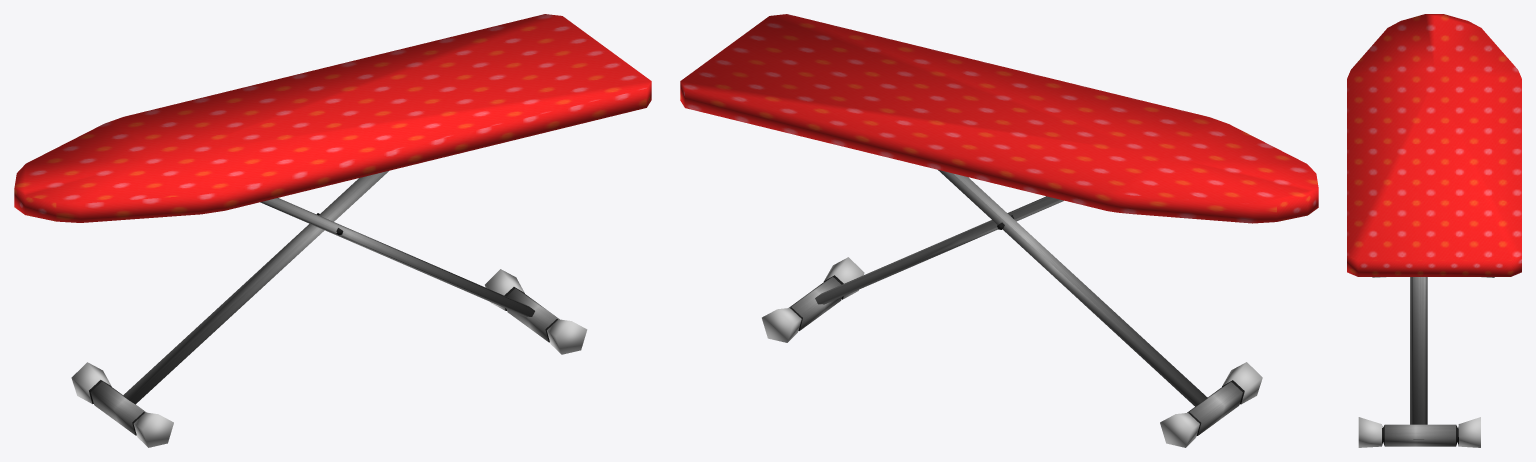
File: Ironing_Board_F.FBX
The picture shows the model from 3 angles, left to right: view 1: azimuth 30°, elevation 25°; view 2: azimuth 150°, elevation 25°; view 3: azimuth 270°, elevation 25°; orthographic projection. The views are drawn at different scales.
Parts seen in each view (by area): view 1: Ironing_Board; view 2: Ironing_Board; view 3: Ironing_Board.
Boxes of the visible parts, <box> form: Ironing_Board: <box>14,14,651,447</box>; Ironing_Board: <box>680,14,1318,447</box>; Ironing_Board: <box>1347,14,1521,447</box>.
Bounding box in the file's own units: 317 × 130 × 95.
